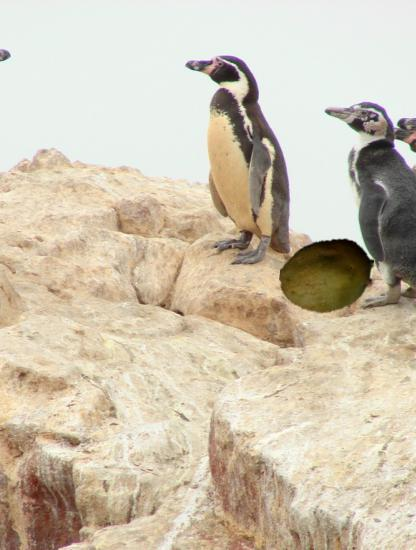Papaya: (280, 229, 373, 322)
